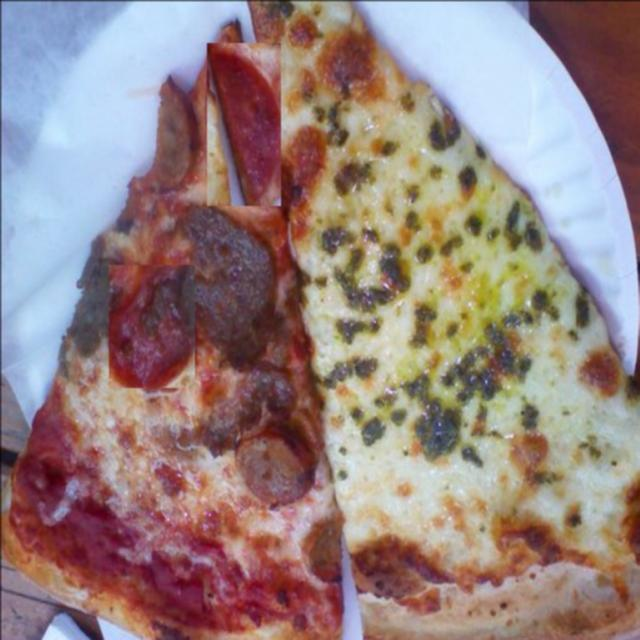pepperoni: (206, 42, 280, 205), (108, 264, 194, 387)
pizza: (1, 3, 640, 640)
